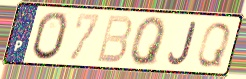7: (68, 11, 102, 63)
B: (94, 14, 134, 66)
J: (167, 20, 198, 67)
O: (31, 10, 69, 62)
Q: (129, 15, 167, 67), (194, 20, 233, 69)
